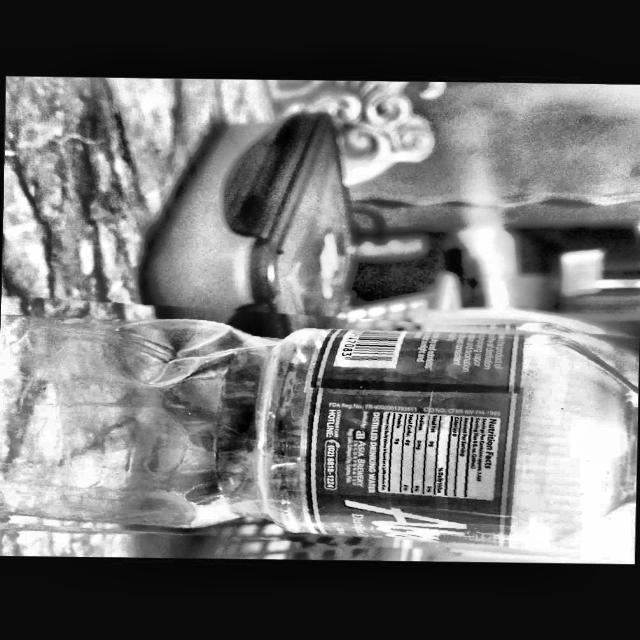Plastic-Bottle: (0, 300, 640, 557)
